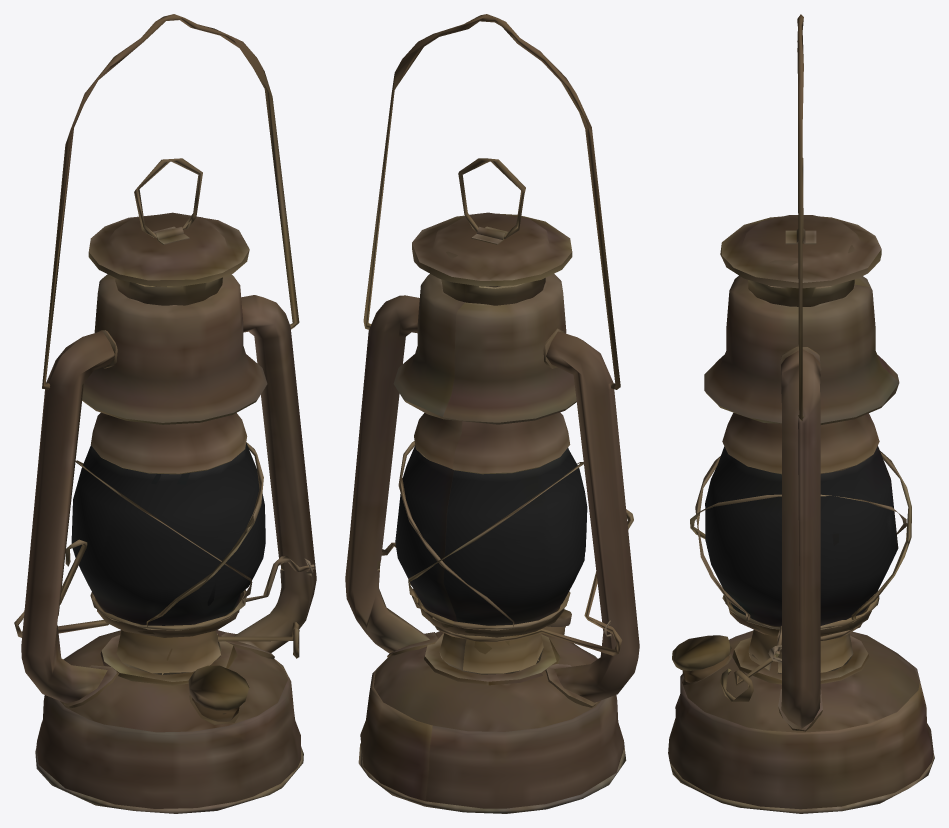
The model's file is Lantern_01_lod2.glb.
3 views of the same model, side by side, from view 1: azimuth 30°, elevation 25°; view 2: azimuth 150°, elevation 25°; view 3: azimuth 270°, elevation 25° (orthographic).
Parts seen in each view (by area): view 1: Lantern_01, Lantern_01_glass; view 2: Lantern_01, Lantern_01_glass; view 3: Lantern_01, Lantern_01_glass.
Boxes of the visible parts, x1,y1,x2,y2 form: Lantern_01: (14, 14, 316, 813); Lantern_01_glass: (71, 443, 265, 625); Lantern_01: (345, 14, 639, 813); Lantern_01_glass: (395, 445, 587, 625); Lantern_01: (668, 14, 934, 813); Lantern_01_glass: (705, 446, 898, 626).
Size of the model in its own units: 0.1219 by 0.2939 by 0.096.
Materials: 2 (2 with a texture image).
